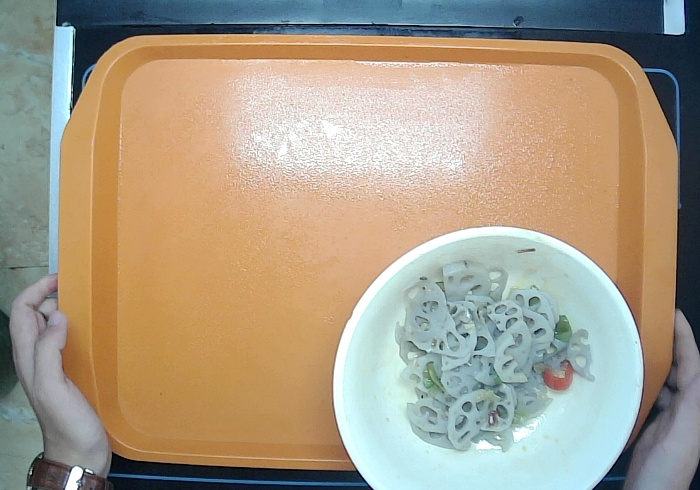ZNLD-Da_Tang_Wan: (329, 223, 646, 490)
